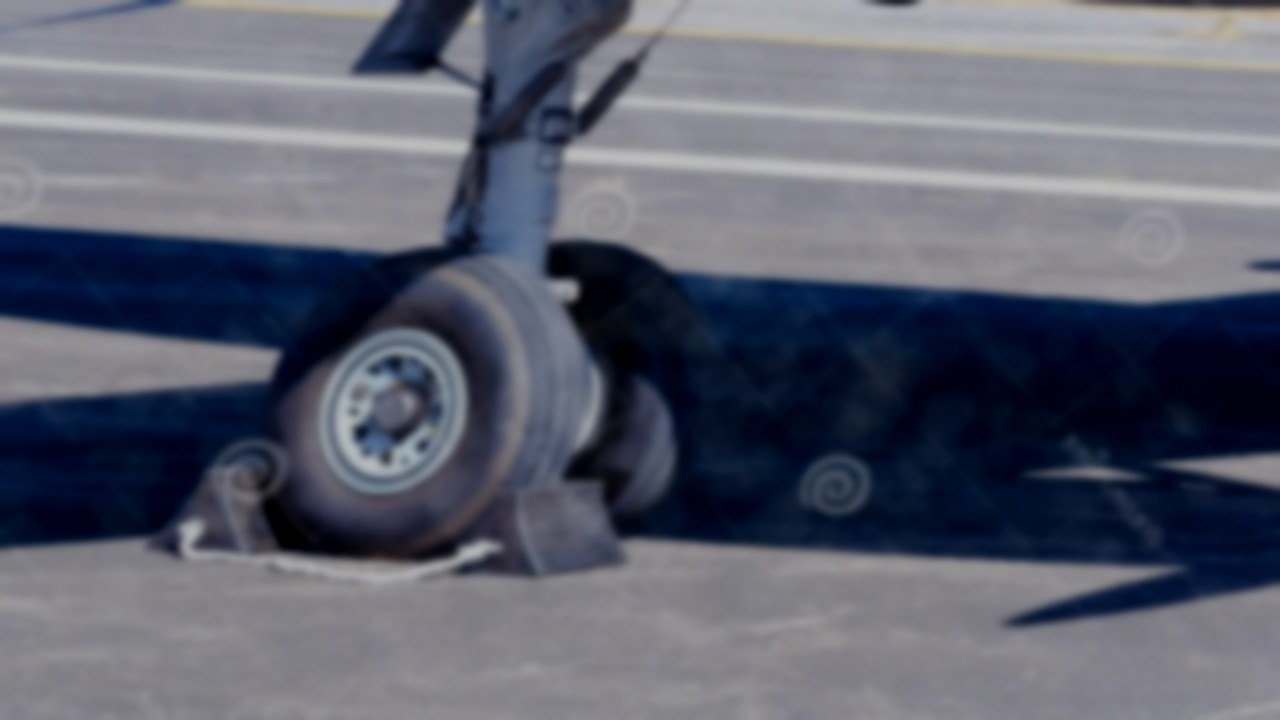chock: (454, 475, 650, 582), (141, 460, 300, 565)
wheel: (233, 239, 618, 560), (482, 236, 743, 541)
